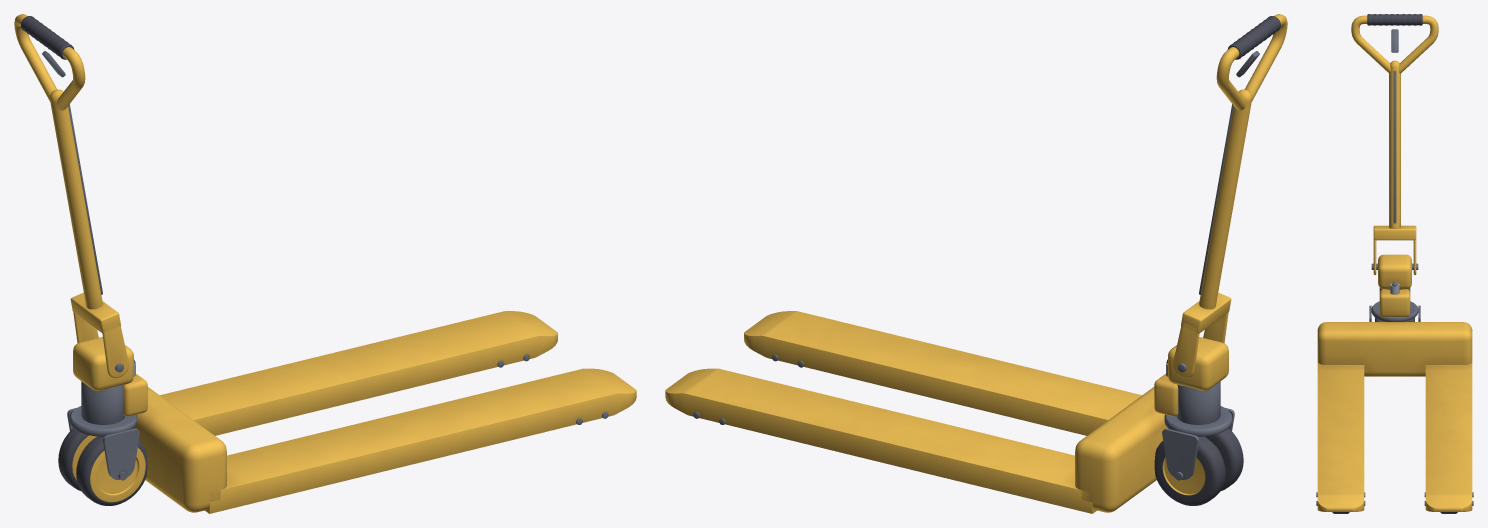
The model's file is pallet-jack.glb.
The picture shows the model from 3 angles, left to right: view 1: azimuth 30°, elevation 25°; view 2: azimuth 150°, elevation 25°; view 3: azimuth 270°, elevation 25°; orthographic projection. The views are drawn at different scales.
Visible parts, largest first — view 1: pallet-jack_body, pallet-jack_drawbar, pallet-jack_steer_wheels; view 2: pallet-jack_body, pallet-jack_drawbar, pallet-jack_steer_wheels; view 3: pallet-jack_body, pallet-jack_drawbar.
Part boxes in pixels (<box>): pallet-jack_body: <box>67,311,636,513</box>; pallet-jack_drawbar: <box>14,14,128,377</box>; pallet-jack_steer_wheels: <box>58,428,147,505</box>; pallet-jack_body: <box>665,311,1234,513</box>; pallet-jack_drawbar: <box>1173,14,1287,377</box>; pallet-jack_steer_wheels: <box>1154,428,1243,505</box>; pallet-jack_body: <box>1316,254,1473,513</box>; pallet-jack_drawbar: <box>1351,14,1438,274</box>.
Bounding box in the file's own units: 1.49 × 1.25 × 0.538.
3 materials, 3 textured.
